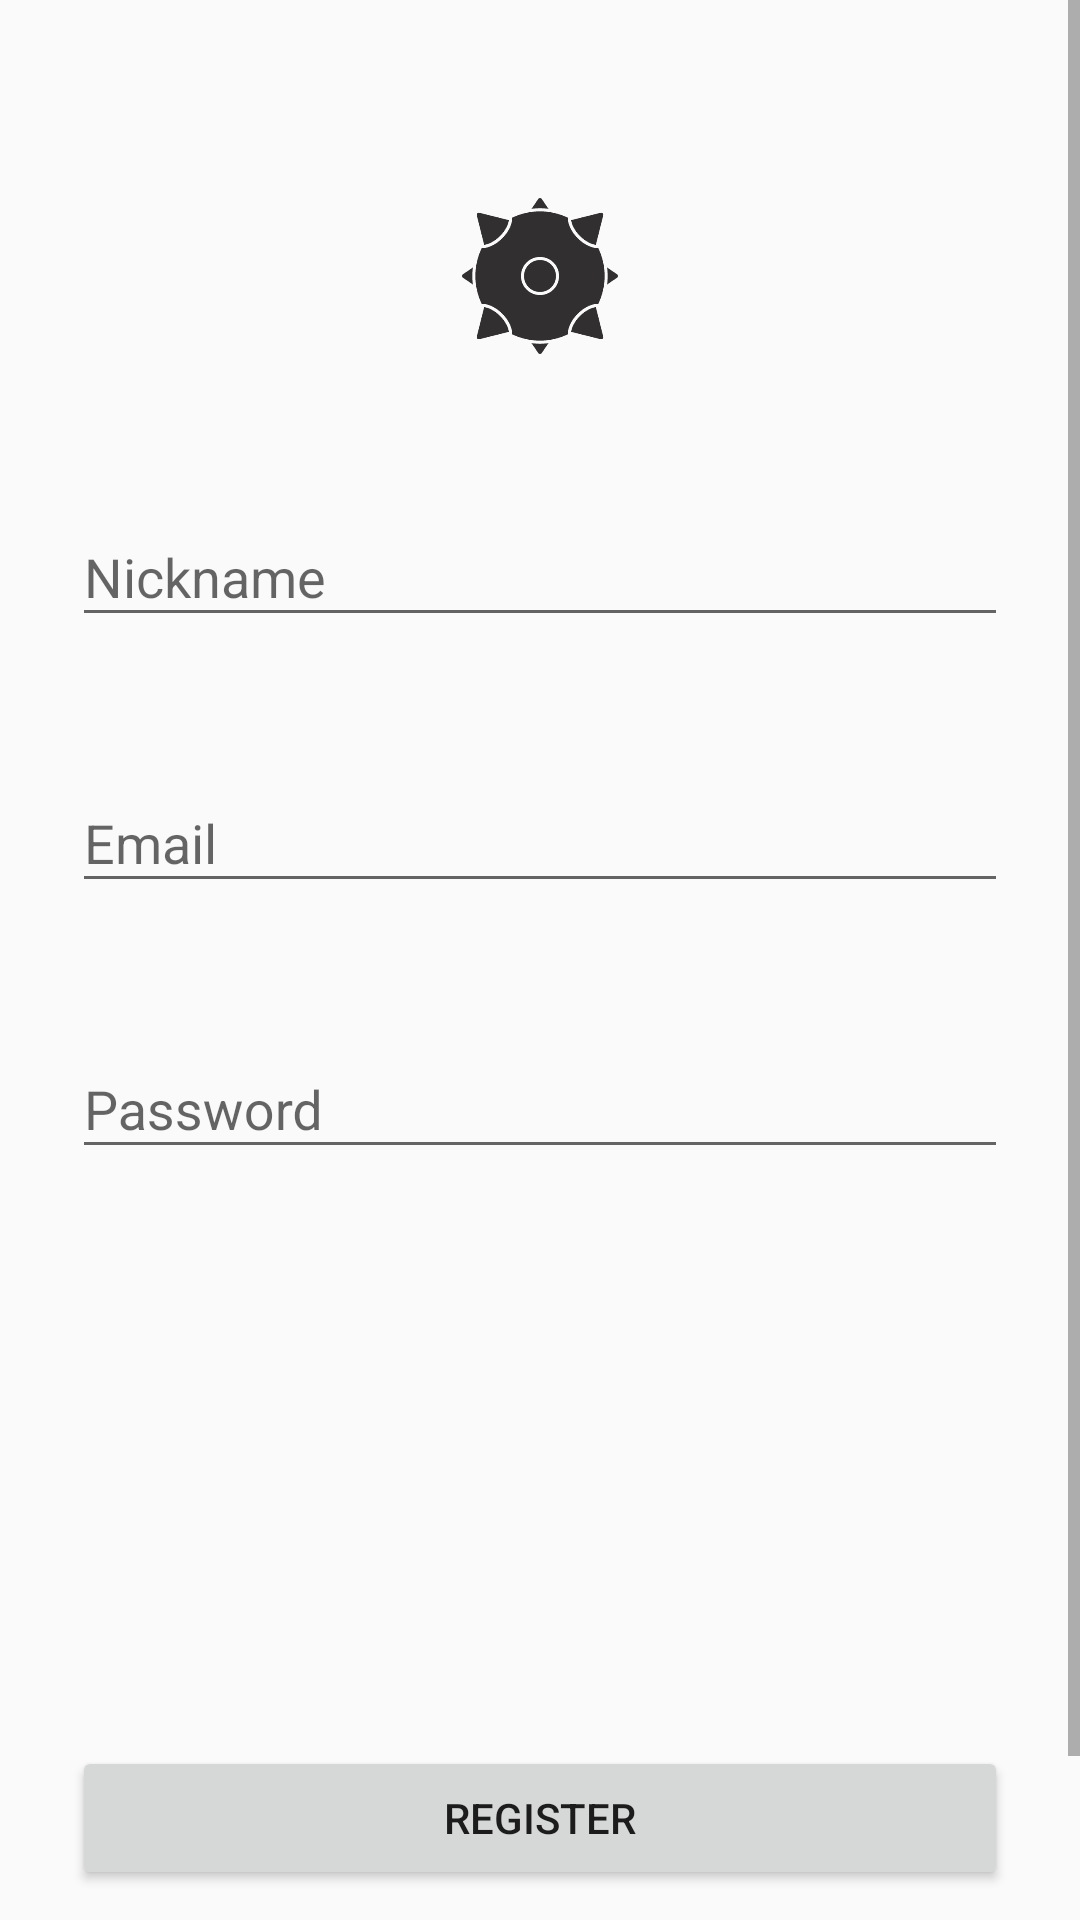

Named icons in this screenshot (1080w x 1920h) and their centers, (x,y):
mine: (540,276)
